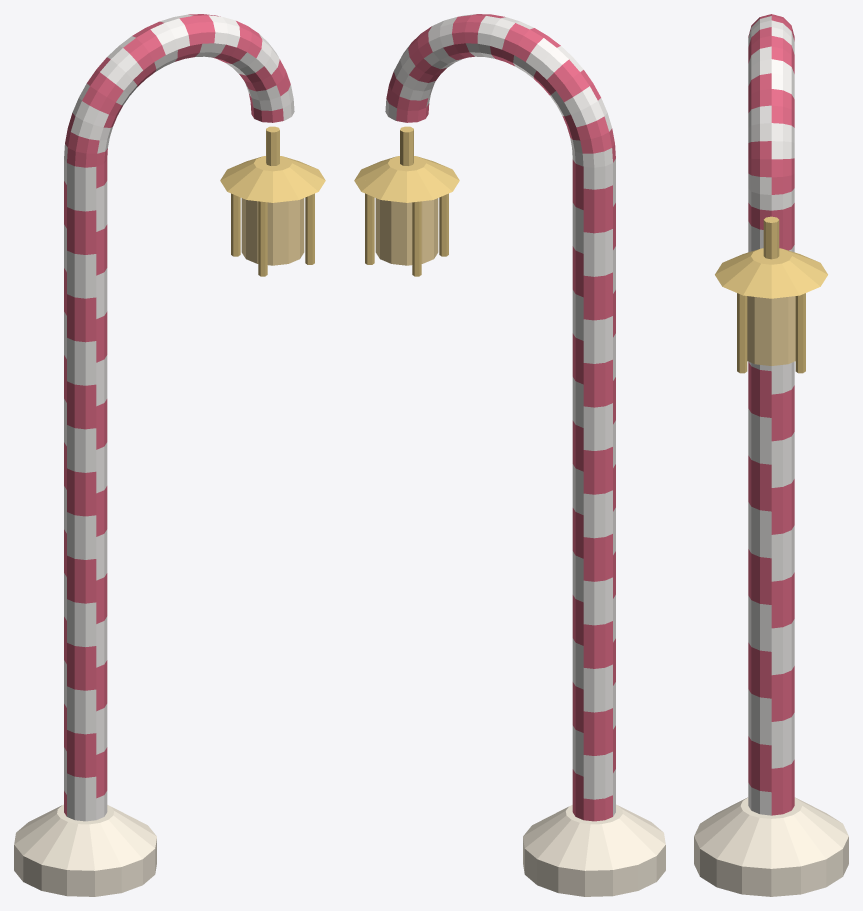
The model's file is HOB_CandyCaneLamp.fbx.
3 renders of one model, left to right at view 1: azimuth 30°, elevation 25°; view 2: azimuth 150°, elevation 25°; view 3: azimuth 270°, elevation 25°, orthographic. The views are drawn at different scales.
Parts seen in each view (by area): view 1: HOB_CandyCaneLamp; view 2: HOB_CandyCaneLamp; view 3: HOB_CandyCaneLamp.
Part boxes in pixels (box(x1,y1,x2,y2)): HOB_CandyCaneLamp: box(14, 14, 325, 896); HOB_CandyCaneLamp: box(354, 14, 665, 896); HOB_CandyCaneLamp: box(694, 14, 848, 896).
Bounding box in the file's own units: 142 × 379 × 60.
